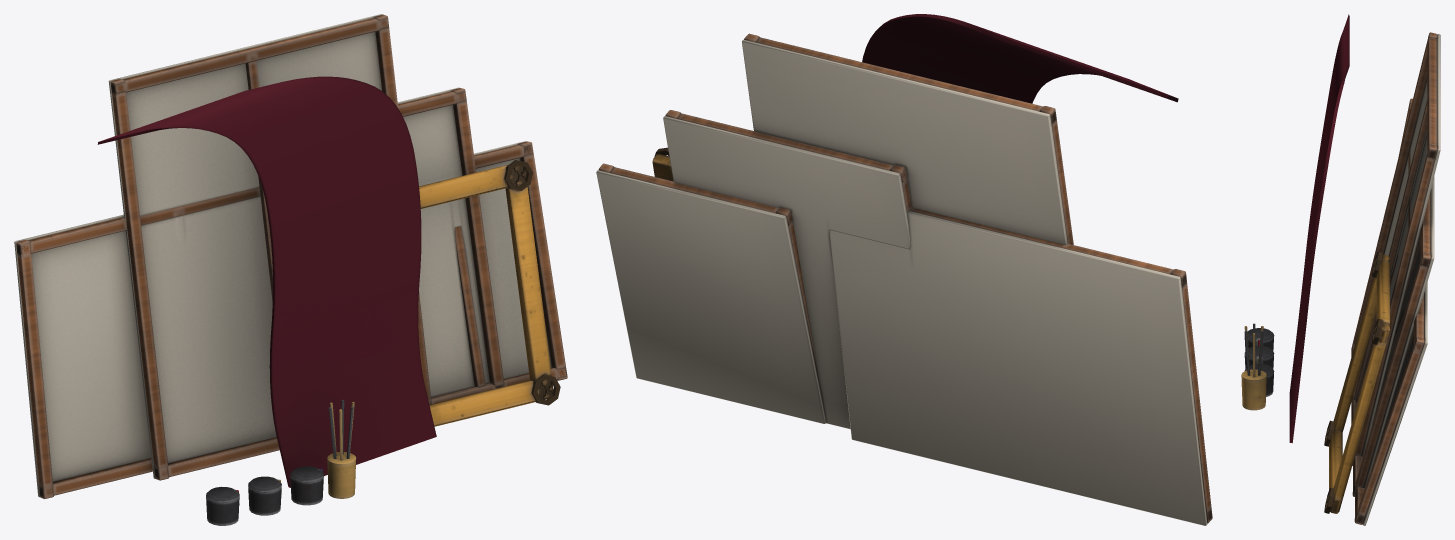
The model's file is CanvasStack.fbx.
3 renders of one model, left to right at view 1: azimuth 30°, elevation 25°; view 2: azimuth 150°, elevation 25°; view 3: azimuth 270°, elevation 25°, orthographic. The views are drawn at different scales.
Parts seen in each view (by area): view 1: CanvasStack; view 2: CanvasStack; view 3: CanvasStack.
Boxes of the visible parts, <box> form: CanvasStack: <box>14,14,567,525</box>; CanvasStack: <box>596,14,1212,525</box>; CanvasStack: <box>1241,14,1440,525</box>.
Size of the model in its own units: 490 by 344 by 188.
